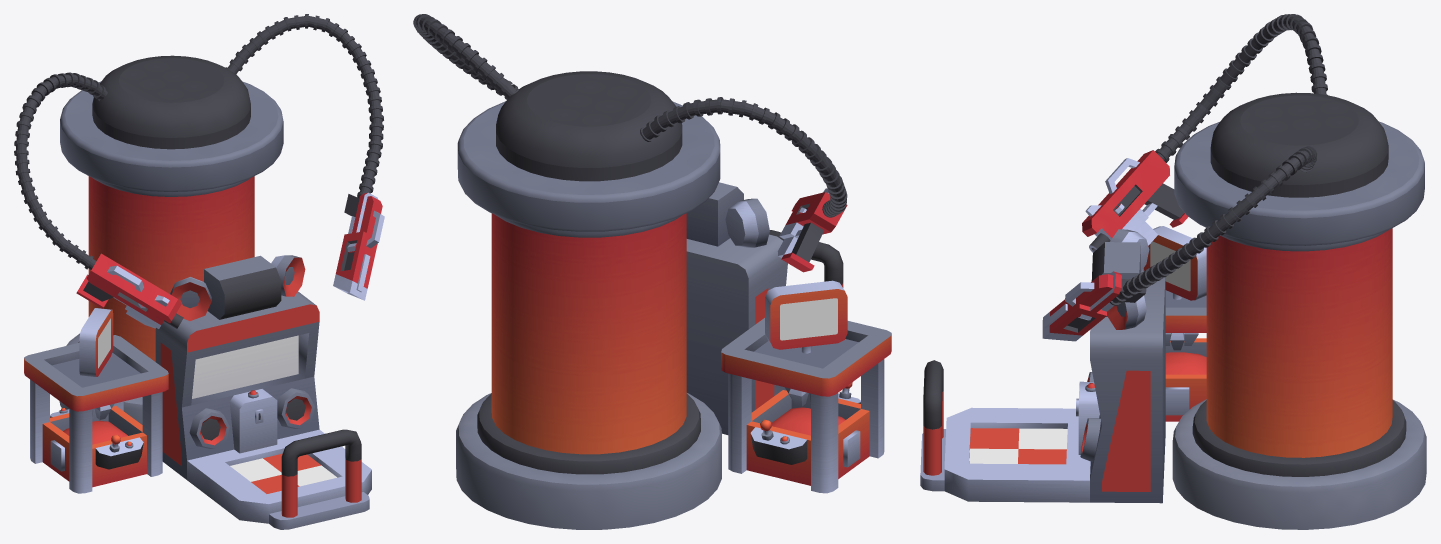
The model's file is Machine_Red.fbx.
The picture shows the model from 3 angles, left to right: view 1: azimuth 30°, elevation 25°; view 2: azimuth 150°, elevation 25°; view 3: azimuth 270°, elevation 25°; orthographic projection. The views are drawn at different scales.
Visible parts, largest first — view 1: machine_red; view 2: machine_red; view 3: machine_red.
Boxes of the visible parts, bbox=[...] form: machine_red: bbox=[14, 14, 384, 529]; machine_red: bbox=[413, 14, 891, 529]; machine_red: bbox=[920, 14, 1426, 529].
Bounding box in the file's own units: 748 × 715 × 832.
1 material, 1 textured.
